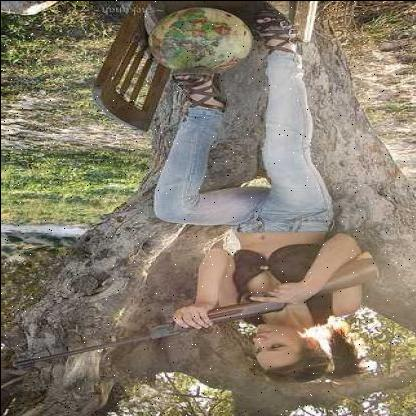rifle: (3, 248, 407, 379)
